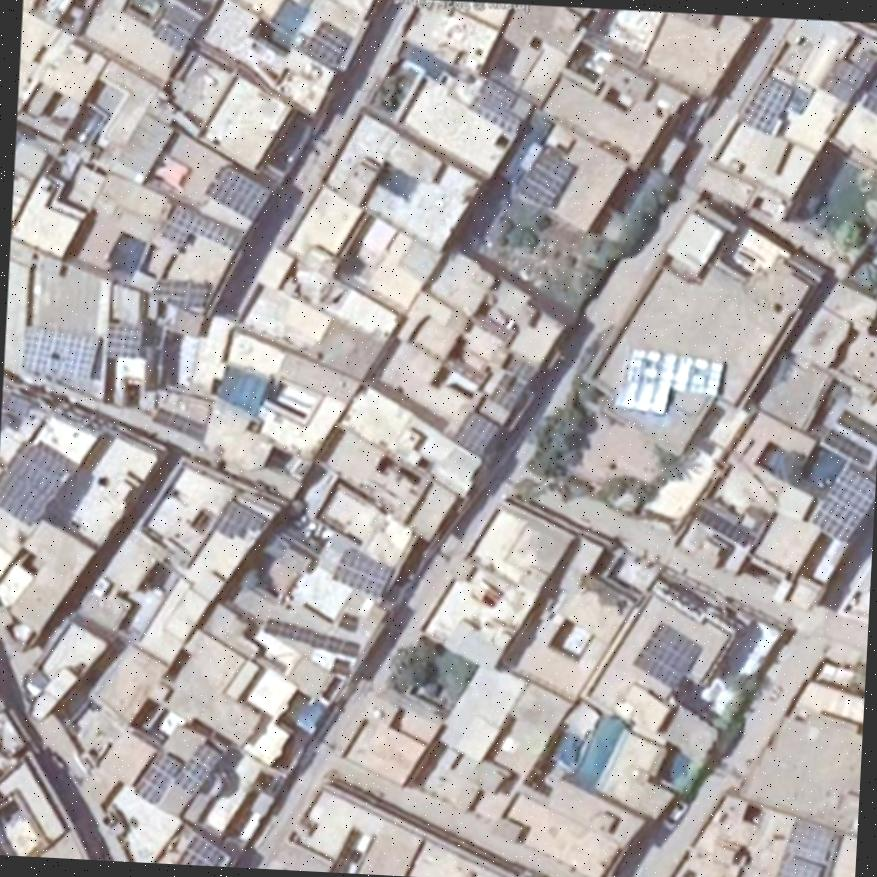Solarpanel: (0, 441, 67, 527), (809, 468, 874, 545), (158, 204, 241, 264), (635, 620, 702, 686), (263, 618, 362, 658), (22, 327, 100, 377), (516, 150, 576, 207), (776, 820, 835, 877), (742, 74, 794, 136), (806, 420, 873, 467), (205, 169, 267, 219), (331, 550, 393, 596), (216, 498, 266, 549), (691, 506, 750, 548), (135, 753, 181, 805), (302, 19, 353, 64), (175, 744, 219, 795), (150, 409, 207, 441), (456, 414, 498, 457), (151, 278, 209, 307), (837, 410, 877, 445), (176, 836, 221, 866), (108, 327, 143, 358), (862, 76, 877, 115)
